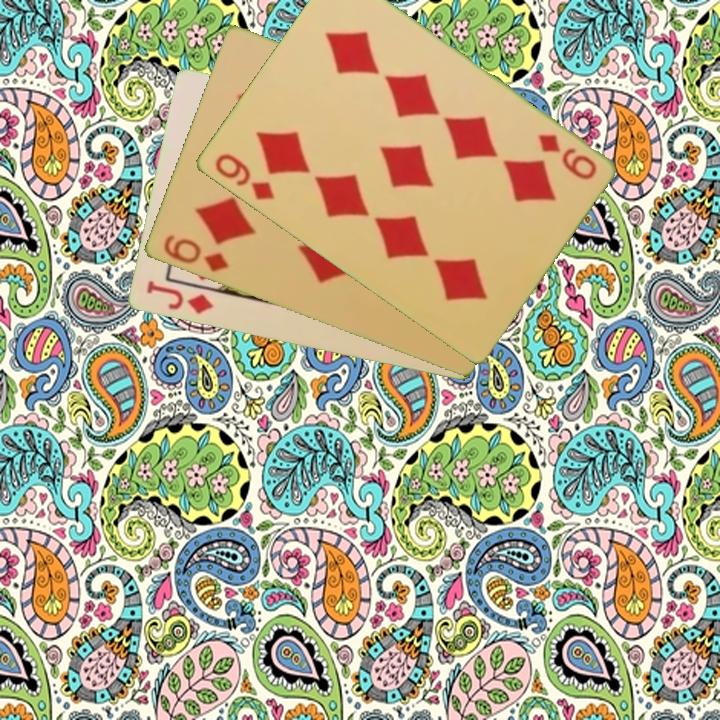6d: (159, 231, 231, 275)
9d: (211, 150, 278, 204), (533, 130, 599, 183)
Jd: (142, 277, 216, 317)
